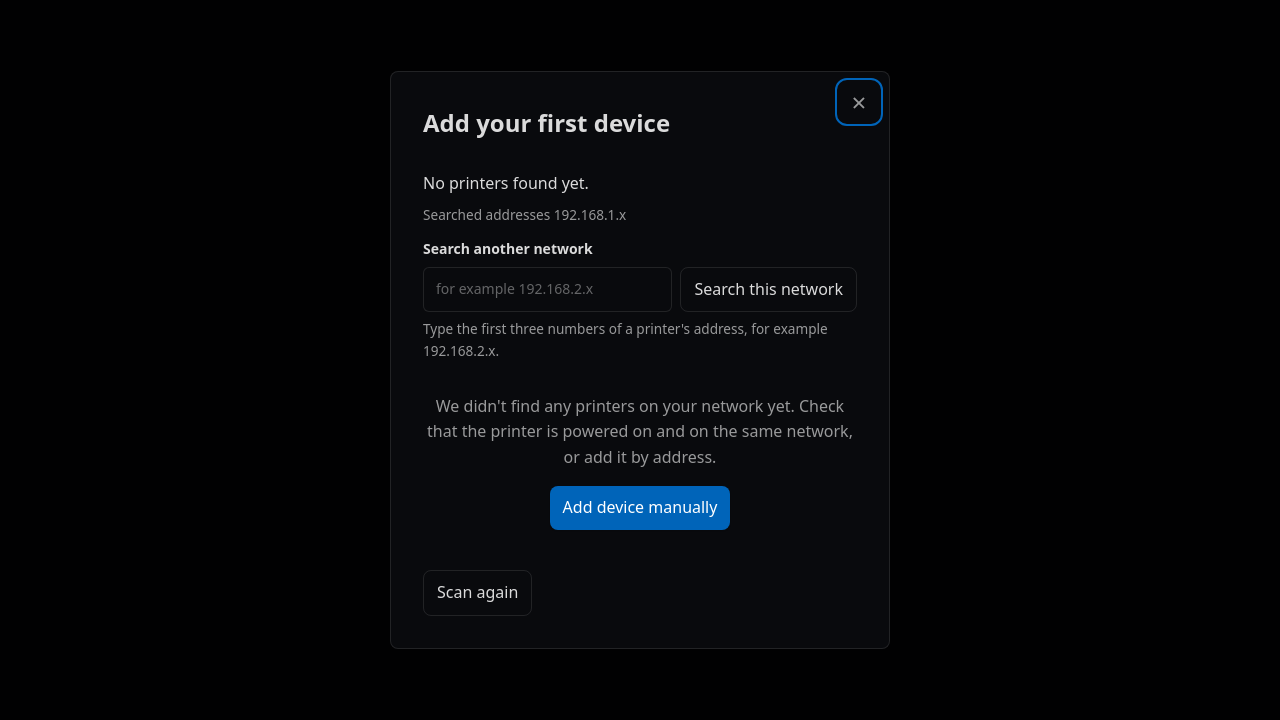
Test: SetupWizard v2 › test connection shows success when the backend returns ok:true
Click the button "Add device manually" at (640, 508), box [550,486,730,530]
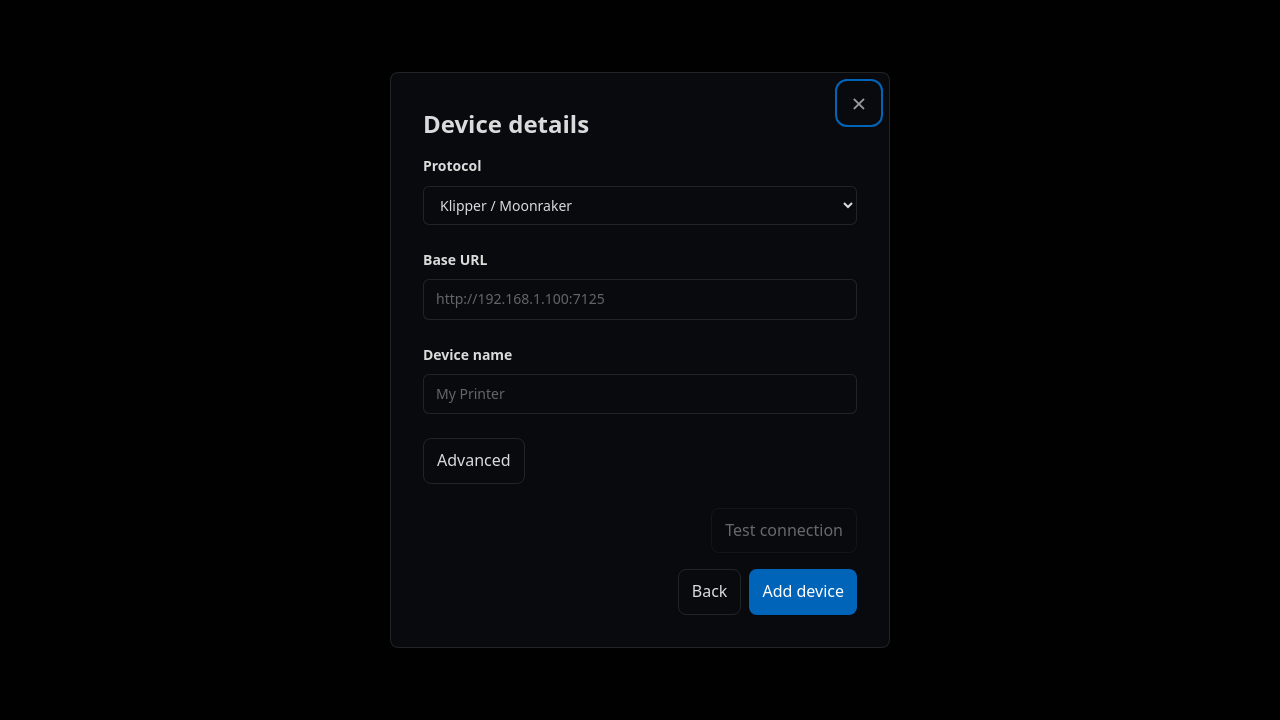
Type "http://192.168.1.70:7125" into the field with placeholder "http://192.168.1.100:7125" at (640, 299), box [423,279,857,320]
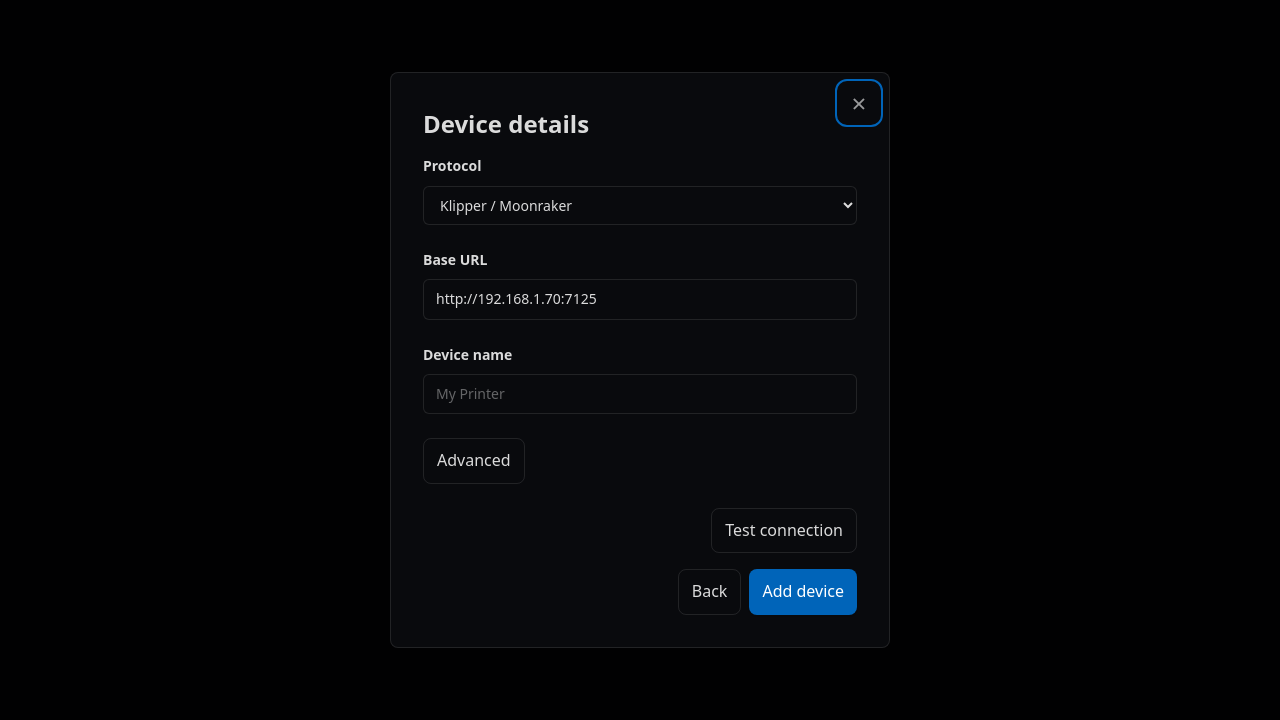
Click the button "Test connection" at (784, 531), box [711,508,857,554]
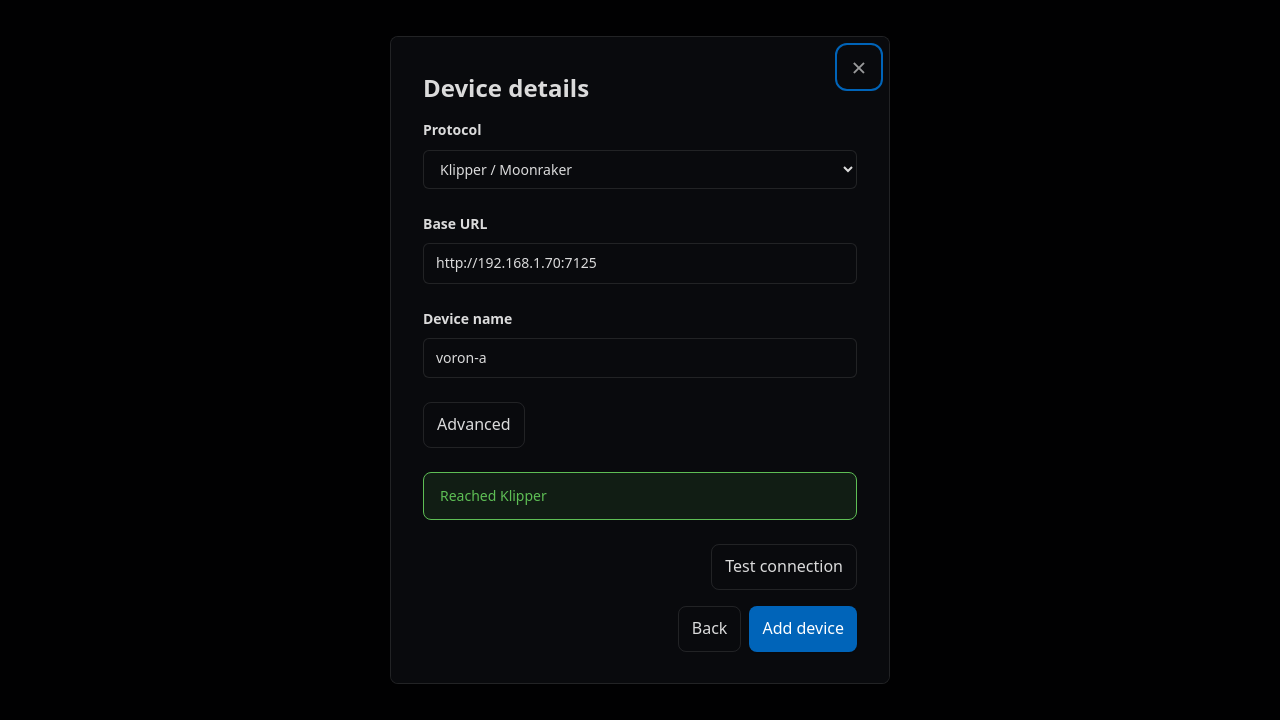
Check: the text "Reached Klipper" is shown, box [423,472,857,520]
Check: the field with placeholder "My Printer" holds "voron-a", box [423,338,857,378]
